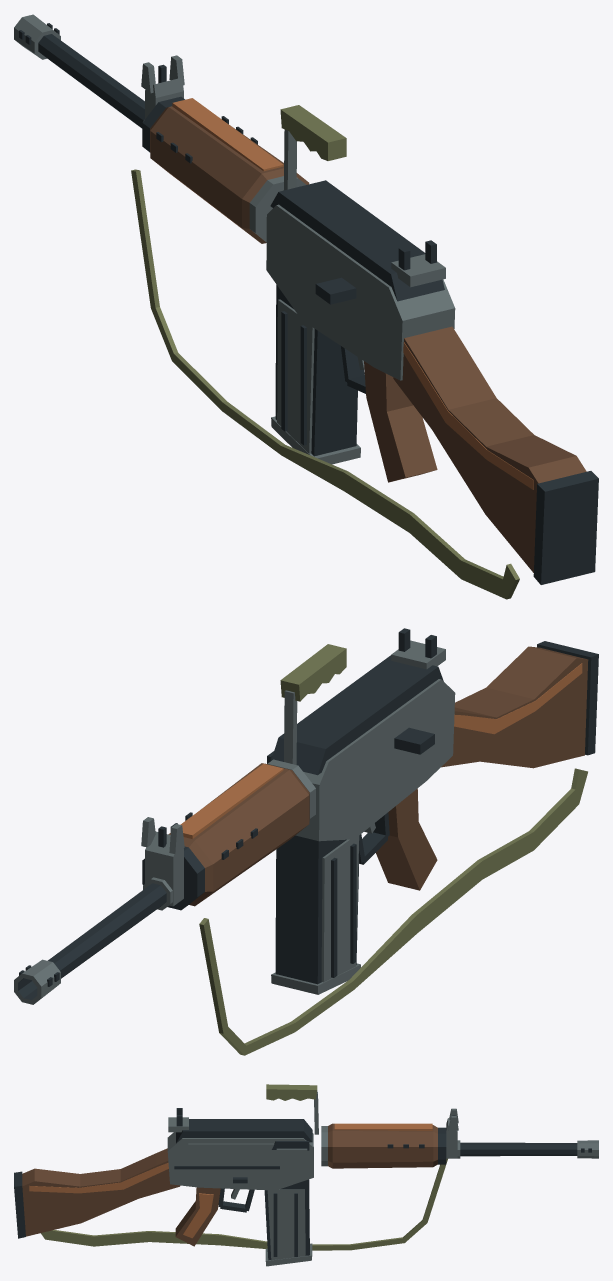
File: fnfal.glb
3 renders of one model, top to bottom at view 1: azimuth 30°, elevation 25°; view 2: azimuth 150°, elevation 25°; view 3: azimuth 270°, elevation 25°, orthographic. The views are drawn at different scales.
Parts seen in each view (by area): view 1: Wood_stock_0, Receiver_3, Sling_52, Handguard_23, Top_cover_4, Butt_pad_2, Pistol_grip_9, Straight_magazine_15, Magazine_face_16, Barrel_33, Handguard_ridge_24, Carry_handle_49 (+9 smaller); view 2: Receiver_3, Wood_stock_0, Sling_52, Handguard_23, Top_cover_4, Straight_magazine_15, Pistol_grip_9, Magazine_face_16, Barrel_33, Handguard_ridge_24, Carry_handle_49, Gas_block_41 (+11 smaller); view 3: Wood_stock_0, Receiver_3, Handguard_23, Sling_52, Top_cover_4, Magazine_face_17, Upper_receiver_side_5, Barrel_33, Stock_comb_1, Pistol_grip_9, Carry_handle_49, Straight_magazine_15 (+12 smaller).
Part boxes in pixels (left/top/right/bottom): Wood_stock_0: left=393, top=326, right=586, bottom=572; Receiver_3: left=266, top=204, right=455, bottom=380; Sling_52: left=131, top=169, right=519, bottom=599; Handguard_23: left=150, top=106, right=309, bottom=243; Top_cover_4: left=270, top=180, right=444, bottom=301; Butt_pad_2: left=533, top=471, right=598, bottom=584; Pistol_grip_9: left=364, top=361, right=437, bottom=482; Straight_magazine_15: left=275, top=284, right=357, bottom=456; Magazine_face_16: left=277, top=299, right=314, bottom=453; Barrel_33: left=38, top=34, right=144, bottom=128; Handguard_ridge_24: left=172, top=98, right=283, bottom=171; Carry_handle_49: left=280, top=105, right=346, bottom=160; Receiver_3: left=295, top=679, right=455, bottom=841; Wood_stock_0: left=441, top=646, right=588, bottom=768; Sling_52: left=199, top=768, right=587, bottom=1055; Handguard_23: left=168, top=763, right=309, bottom=906; Top_cover_4: left=271, top=655, right=443, bottom=775; Straight_magazine_15: left=275, top=835, right=359, bottom=984; Pistol_grip_9: left=376, top=788, right=437, bottom=890; Magazine_face_16: left=321, top=836, right=359, bottom=982; Barrel_33: left=48, top=883, right=166, bottom=978; Handguard_ridge_24: left=180, top=763, right=283, bottom=838; Carry_handle_49: left=280, top=644, right=346, bottom=701; Gas_block_41: left=145, top=831, right=183, bottom=906; Wood_stock_0: left=22, top=1148, right=180, bottom=1236; Receiver_3: left=167, top=1132, right=313, bottom=1190; Handguard_23: left=328, top=1123, right=437, bottom=1168; Sling_52: left=41, top=1158, right=447, bottom=1250; Top_cover_4: left=176, top=1119, right=312, bottom=1143; Magazine_face_17: left=267, top=1189, right=305, bottom=1260; Upper_receiver_side_5: left=188, top=1143, right=287, bottom=1160; Barrel_33: left=460, top=1142, right=577, bottom=1156; Stock_comb_1: left=29, top=1162, right=168, bottom=1193; Pistol_grip_9: left=175, top=1187, right=220, bottom=1246; Carry_handle_49: left=266, top=1084, right=317, bottom=1100; Straight_magazine_15: left=264, top=1179, right=309, bottom=1260.
Bounding box in the file's own units: 0.1195 × 0.416 × 1.27.
